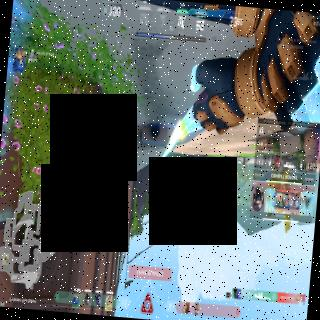ENEMY-HEAD: (160, 163, 162, 166)
